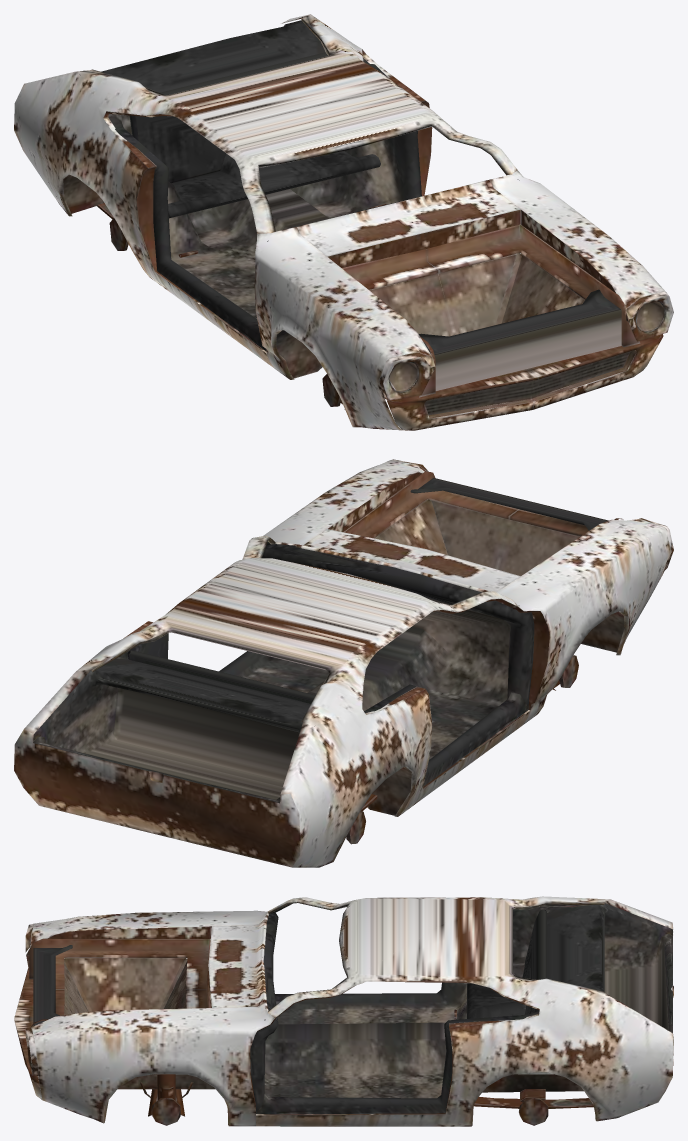
File: compact_car_d_white.glb
3 views of the same model, one above another, from view 1: azimuth 30°, elevation 25°; view 2: azimuth 150°, elevation 25°; view 3: azimuth 270°, elevation 25° (orthographic). The views are drawn at different scales.
Parts seen in each view (by area): view 1: compact_car_d_LOD0; view 2: compact_car_d_LOD0; view 3: compact_car_d_LOD0.
Boxes of the visible parts, bbox=[...] form: compact_car_d_LOD0: bbox=[14, 14, 673, 430]; compact_car_d_LOD0: bbox=[14, 459, 673, 867]; compact_car_d_LOD0: bbox=[14, 896, 673, 1126].
Bounding box in the file's own units: 2.07 × 1.1 × 4.43.
1 material, 1 textured.
